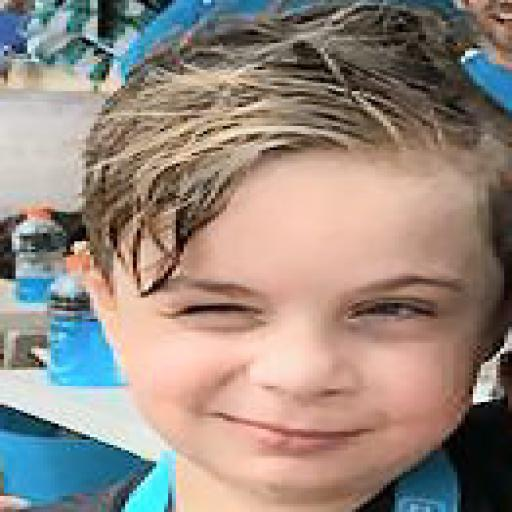Autism: (12, 10, 512, 507)
